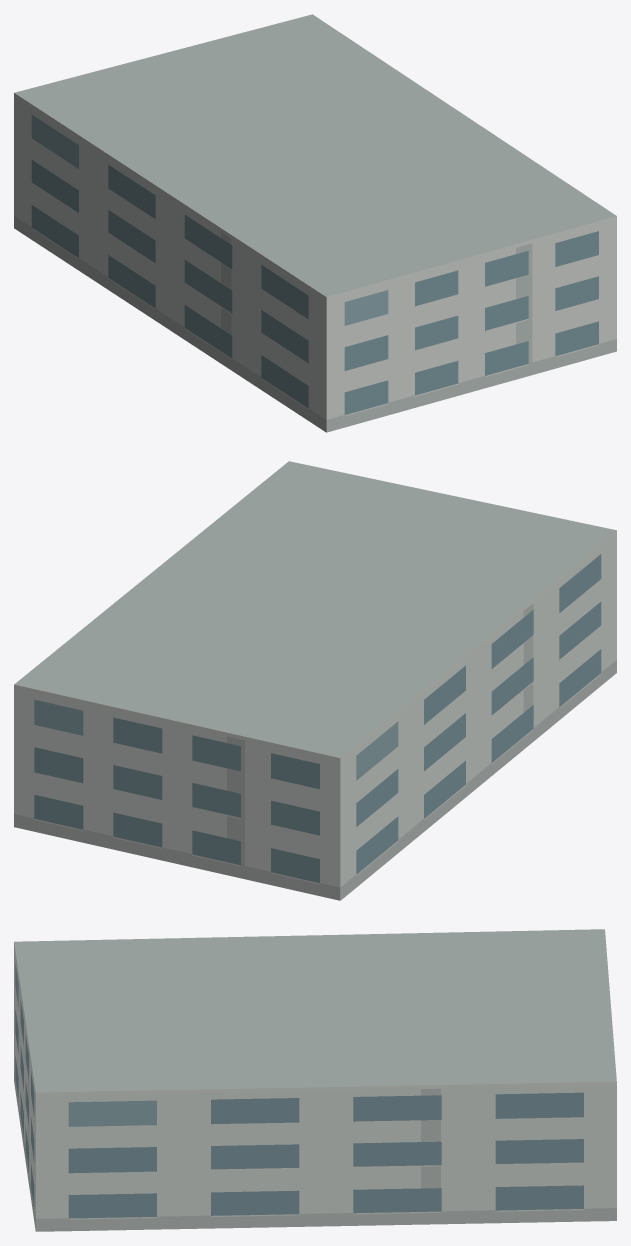
File: survey-upis-32503042.glb
3 views of the same model, one above another, from view 1: azimuth 30°, elevation 25°; view 2: azimuth 150°, elevation 25°; view 3: azimuth 270°, elevation 25° (orthographic). The views are drawn at different scales.
Visible parts, largest first — view 1: survey-upis-32503042.tmp; view 2: survey-upis-32503042.tmp; view 3: survey-upis-32503042.tmp.
Boxes of the visible parts, box(x1,y1,x2,y2) form: survey-upis-32503042.tmp: box(14, 14, 616, 432); survey-upis-32503042.tmp: box(14, 461, 616, 900); survey-upis-32503042.tmp: box(14, 929, 616, 1231).
Bounding box in the file's own units: 23.05 × 9.15 × 35.93.
